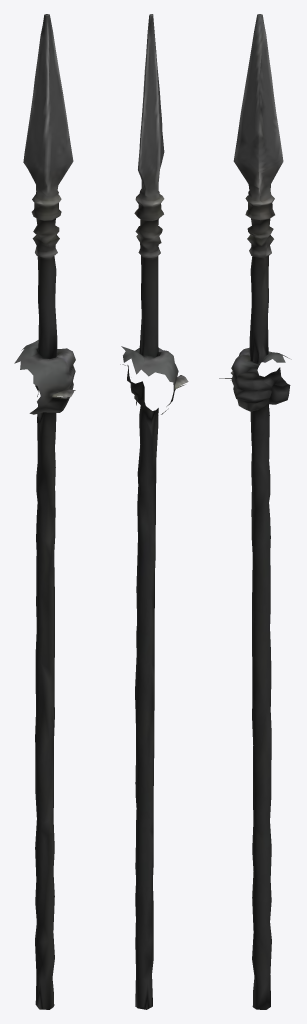
Rendered from weapon_spear_01.glb.
3 views of the same model, side by side, from view 1: azimuth 90°, elevation 25°; view 2: azimuth 150°, elevation 25°; view 3: azimuth 270°, elevation 25° (orthographic).
Parts seen in each view (by area): view 1: weapon_spear; view 2: weapon_spear; view 3: weapon_spear.
Part boxes in pixels (x1,y1,x2,y2): weapon_spear: [14, 14, 75, 1009]; weapon_spear: [120, 14, 188, 1009]; weapon_spear: [219, 14, 291, 1009].
Size of the model in its own units: 0.0723 by 1.17 by 0.0804.
1 material, 1 textured.
